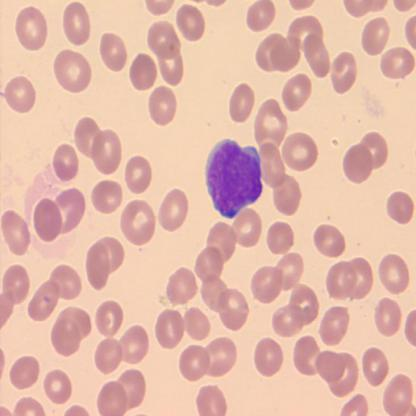Blast: (204, 137, 264, 220)
